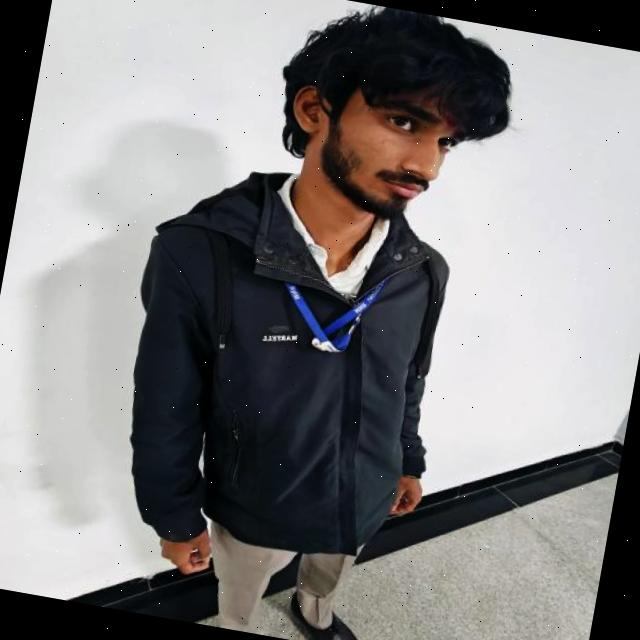Id strap: (284, 279, 386, 352)
